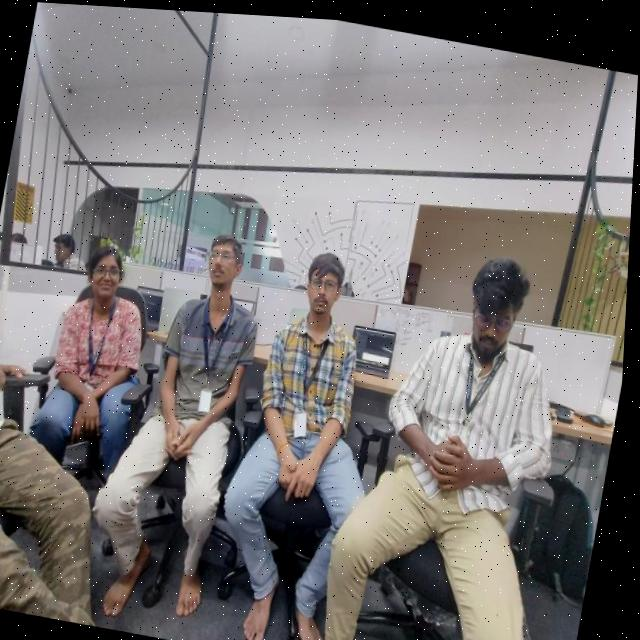id_card: (185, 285, 244, 421), (450, 327, 514, 449), (284, 320, 342, 445), (76, 298, 123, 380)
